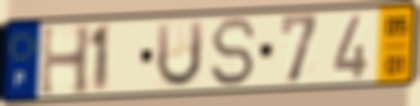1: (88, 21, 117, 96)
4: (331, 12, 371, 81)
7: (279, 12, 319, 86)
H: (38, 23, 95, 99)
S: (209, 16, 259, 89)
U: (154, 18, 206, 90)
